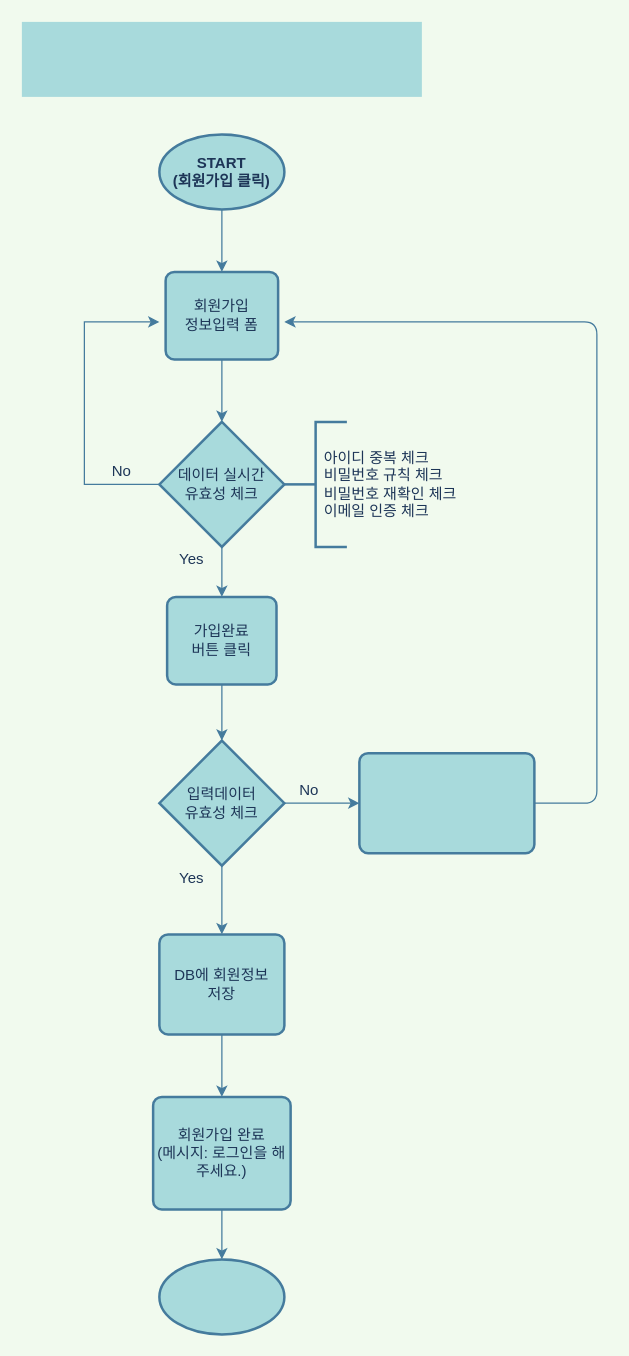
This 629x1356 diagram has some shape labels left out. The box of each missing label's shape, as (x1, y1, x2, y2) in pixels:
[시스템 얼럿] 입력하신 정보를 다시 확인해 주세요.: (358, 751, 535, 854)
FINISH: (158, 1258, 285, 1335)
Flow chart 회원가입 프로세스: (21, 21, 421, 96)
